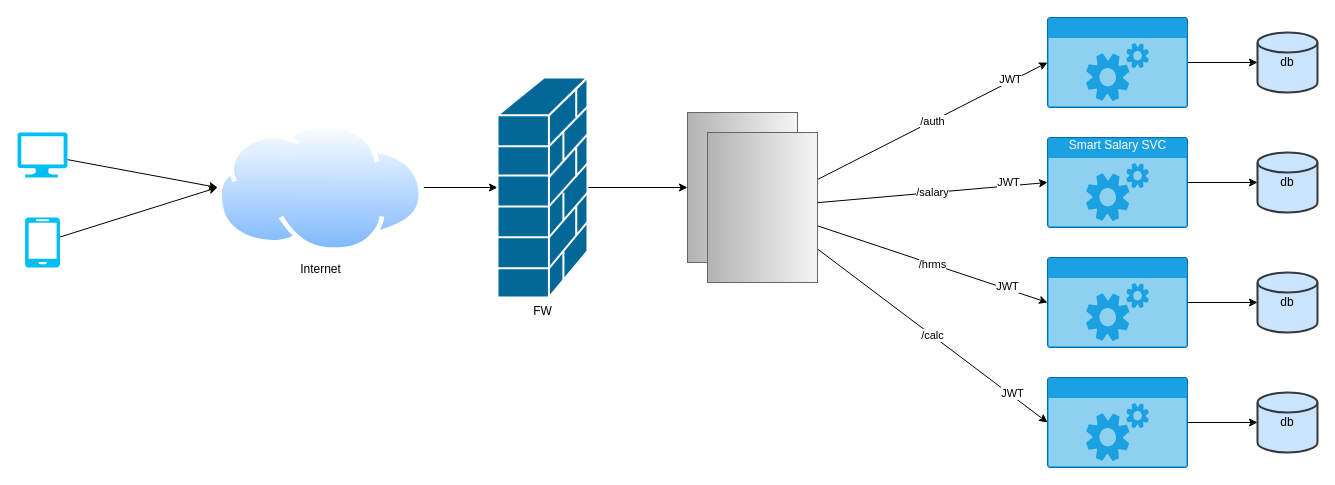
Image size: 1335x485. Some labels were removed from this diagram. Each missing label, with the centre of its shape:
"Auth SVC" goes at pixel 1117 62.
"CALC SVC" goes at pixel 1117 422.
"HRMS SVC" goes at pixel 1117 302.
"Nginx Ingress" goes at pixel 762 207.
